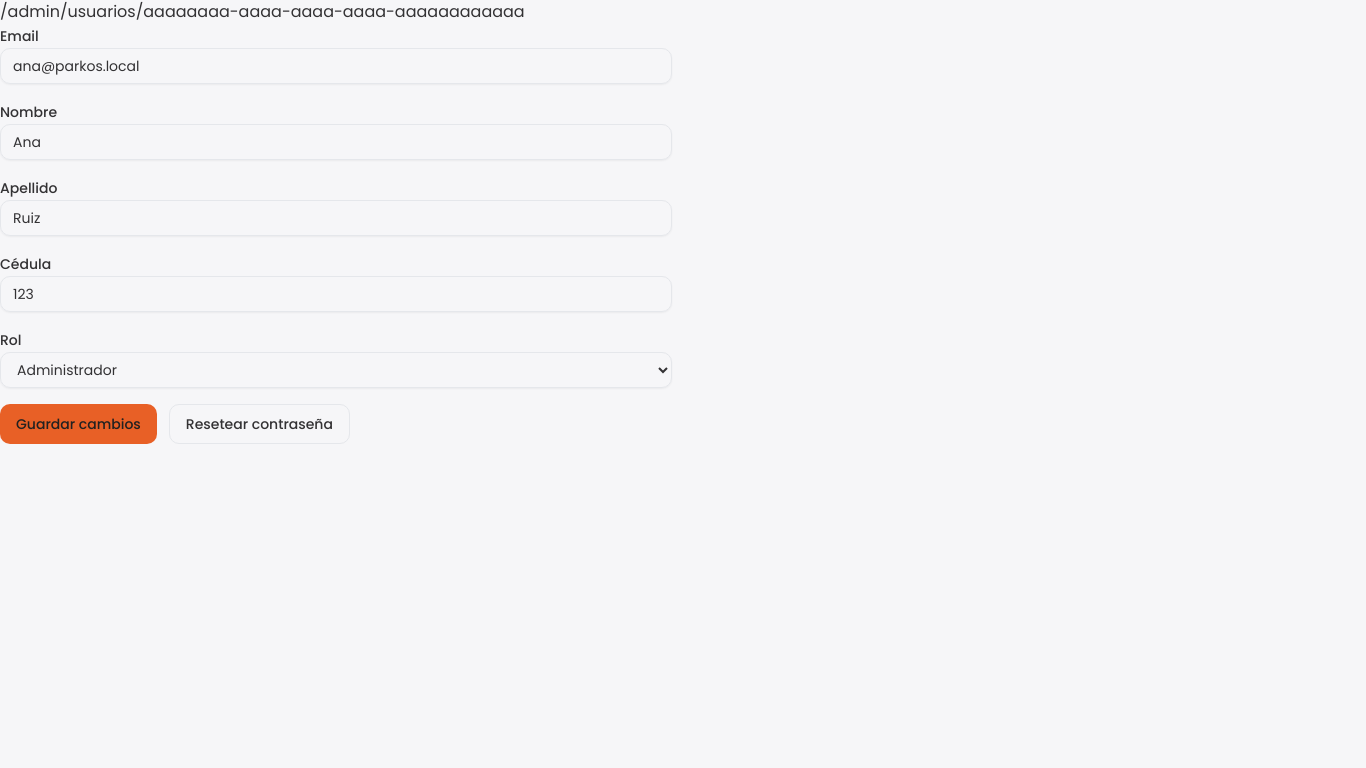
Test case: UsuarioForm — reset de contraseña › muestra la contraseña temporal devuelta por el backend
Click the button with test id "reset-password-btn" at [259, 424], box [169,404,350,444]
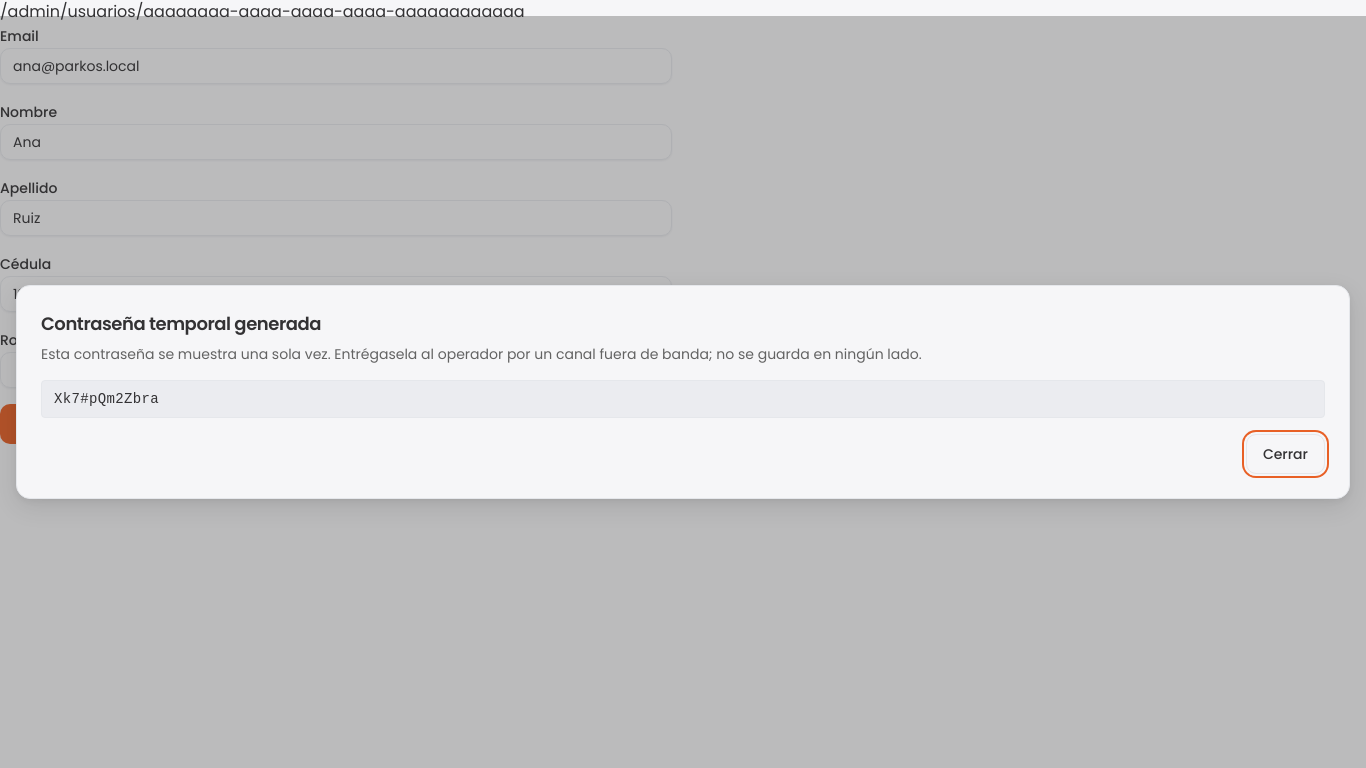
expect the text with test id "temp-password-value" reads "Xk7#pQm2Zbra": met, box [54,391,159,407]
